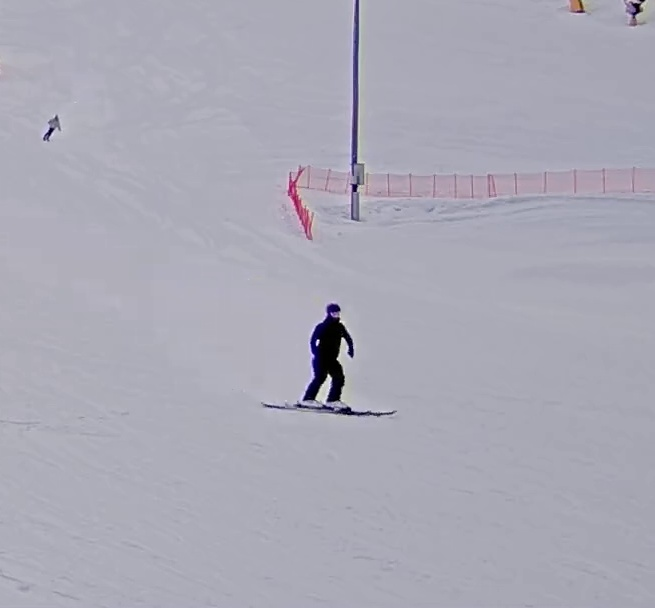skier: (258, 294, 400, 418)
